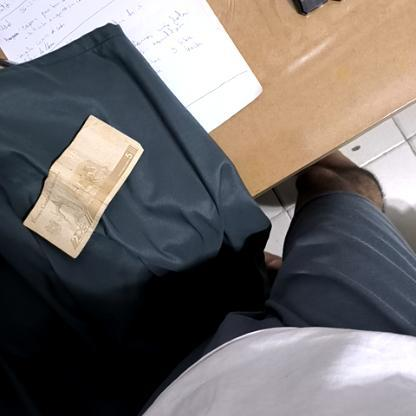five-back-vef: (21, 114, 145, 258)
